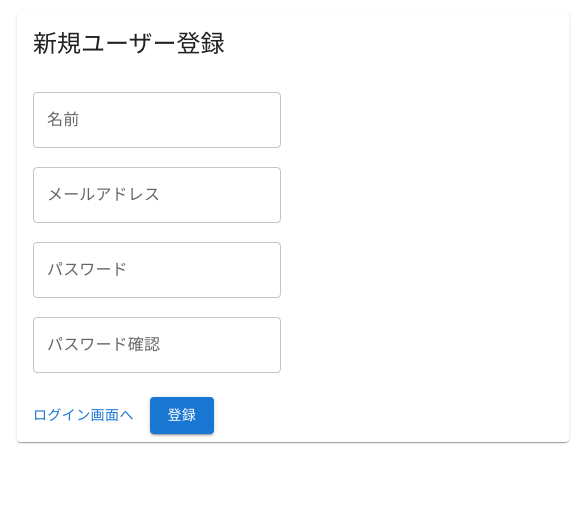
TalkRoomListItem › NewUserName › 何もない状態で「登録」を押されたらエラー
The width and height of the screenshot is (587, 520).
Click the button with test id "submitBtn": {"x": 182, "y": 415} [150,397,214,434]
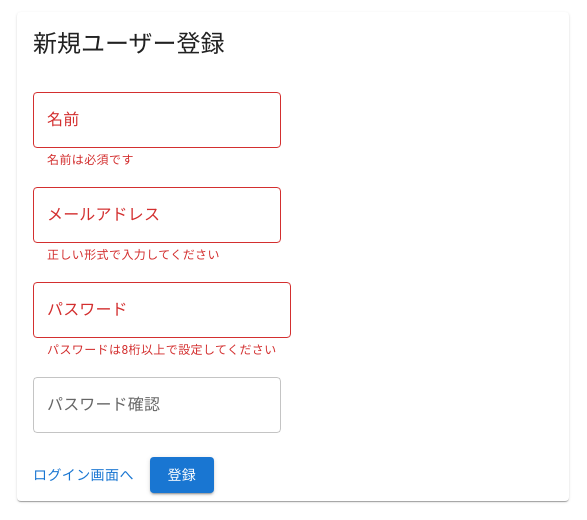
Check: the text with test id "NewUserNameErr" reads "名前は必須です", box [47,153,134,167]
